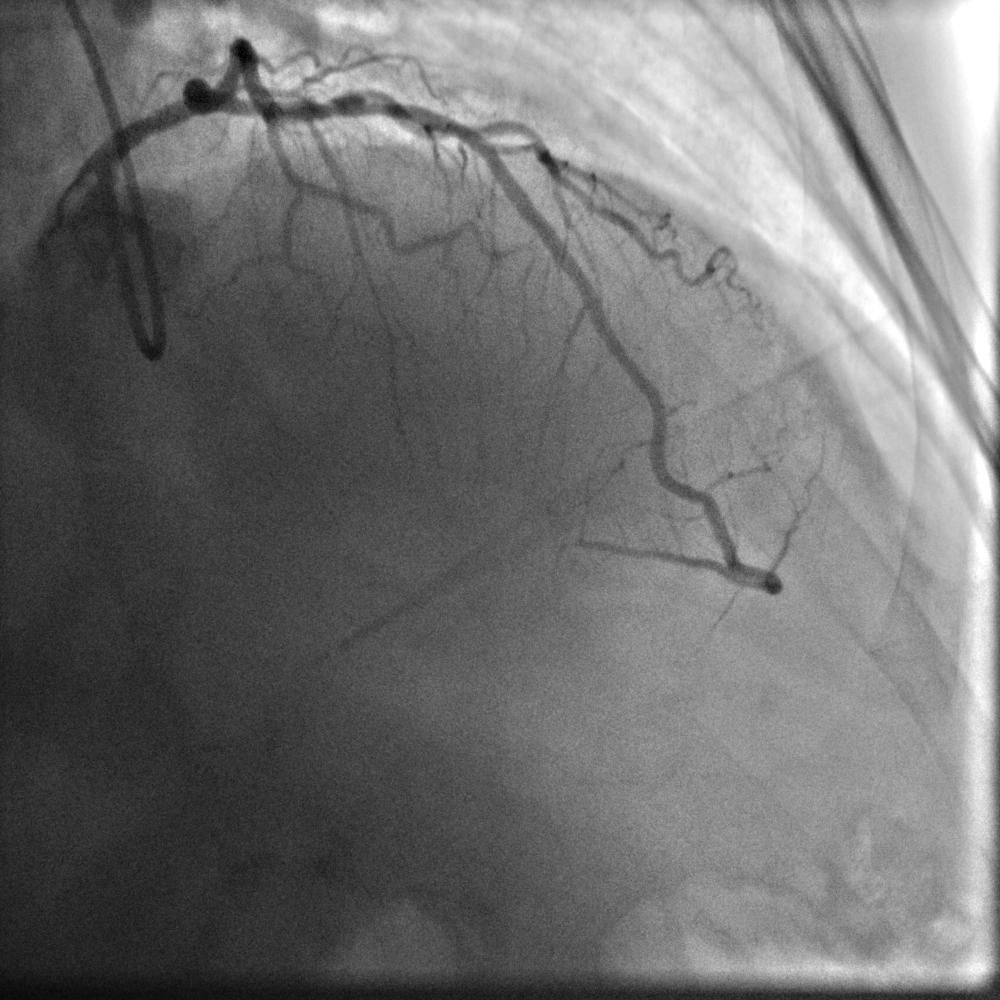Stenosis: (317, 99, 337, 116)
